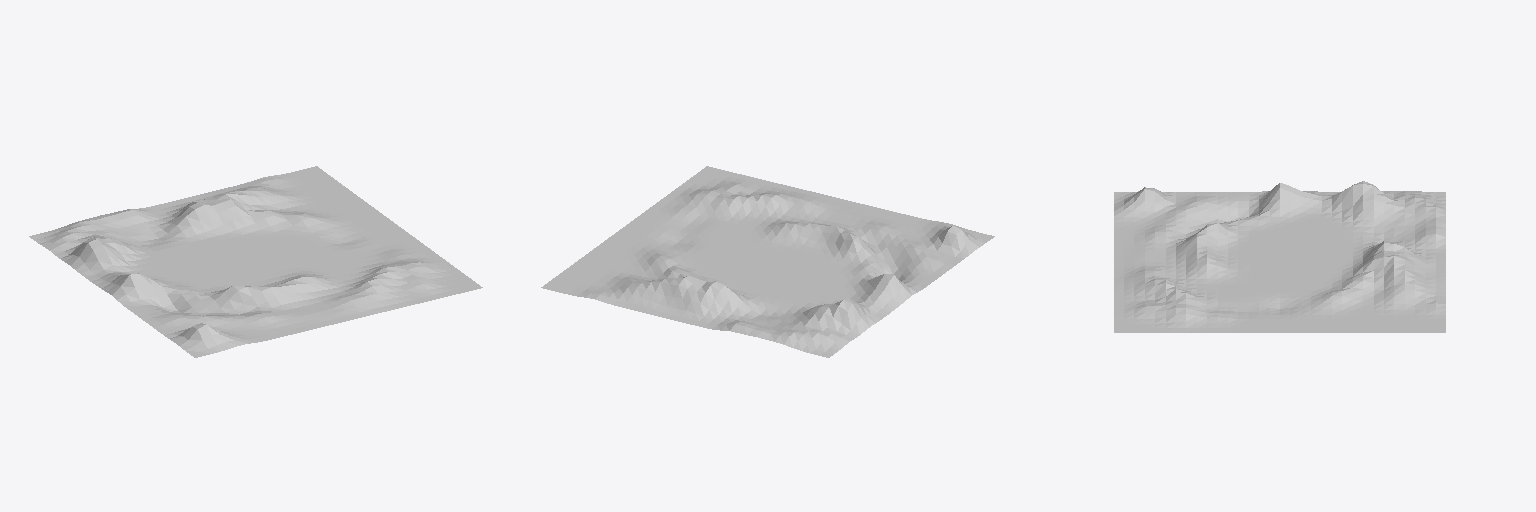
File: terrain.obj
3 views of the same model, side by side, from view 1: azimuth 30°, elevation 25°; view 2: azimuth 150°, elevation 25°; view 3: azimuth 270°, elevation 25° (orthographic).
Bounding box in the file's own units: 100 × 10.11 × 100.